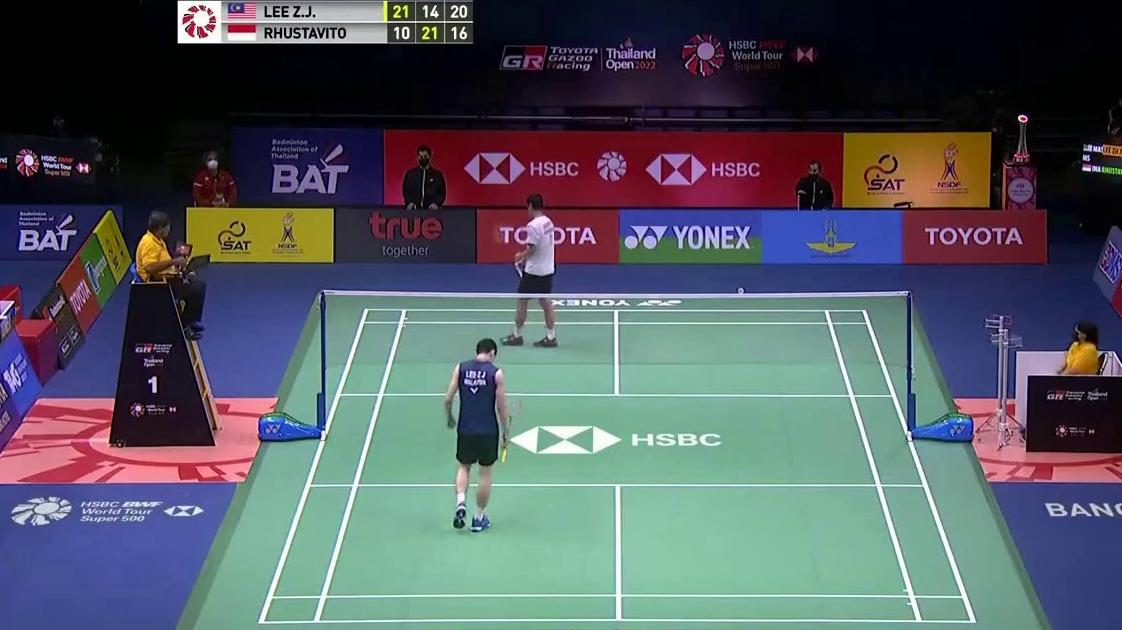racket: (489, 220, 528, 278), (499, 394, 524, 464)
shuttle: (736, 284, 745, 296)
